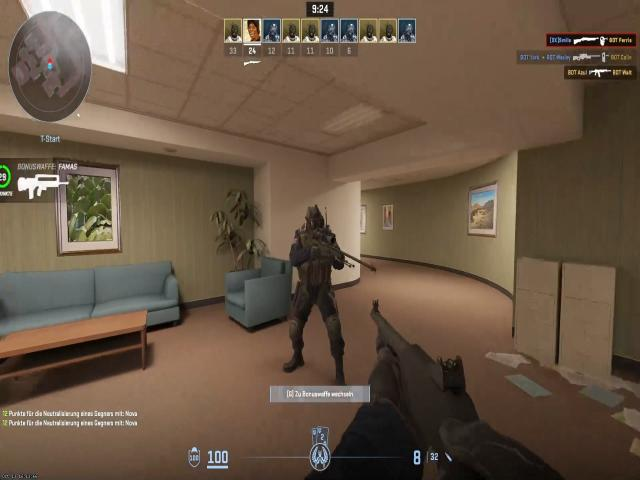CT: (295, 199, 337, 328)
